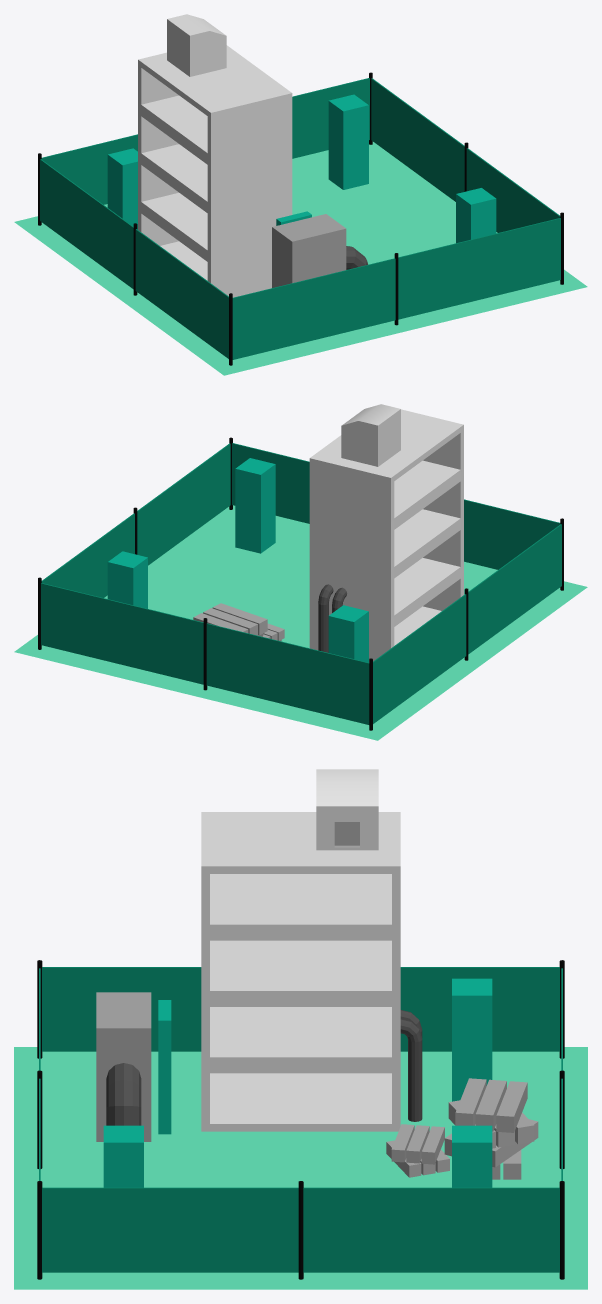
Rendered from 55_green.fbx.
3 renders of one model, top to bottom at view 1: azimuth 30°, elevation 25°; view 2: azimuth 150°, elevation 25°; view 3: azimuth 270°, elevation 25°, orthographic. The views are drawn at different scales.
Parts seen in each view (by area): view 1: pCube229, five_five4, pCube228, pCube227, pCube222, pCube217, pCube225, pCube233, pCube239, pCube226, pCube241, pCube224 (+3 smaller); view 2: pCube229, five_five4, pCube223, pCube224, pCube217, pCube222, pCube226, pCube228, pCube238, pCube225, pCube241, pCube227 (+5 smaller); view 3: pCube229, five_five4, pCube226, pCube225, pCube222, pCube217, pCube233, pCube241, pCube240, pCube239, pCube238, pCylinder44 (+5 smaller).
Boxes of the visible parts, x1=… form: pCube229: x1=138, y1=45, x2=292, y2=297; five_five4: x1=14, y1=141, x2=587, y2=375; pCube228: x1=232, y1=258, x2=395, y2=359; pCube227: x1=398, y1=218, x2=560, y2=319; pCube222: x1=40, y1=159, x2=133, y2=289; pCube217: x1=135, y1=229, x2=228, y2=358; pCube225: x1=371, y1=78, x2=464, y2=201; pCube233: x1=272, y1=214, x2=346, y2=287; pCube239: x1=328, y1=94, x2=368, y2=189; pCube226: x1=466, y1=148, x2=560, y2=232; pCube241: x1=167, y1=14, x2=226, y2=76; pCube224: x1=292, y1=78, x2=369, y2=158; pCube229: x1=309, y1=409, x2=463, y2=662; five_five4: x1=14, y1=505, x2=587, y2=740; pCube223: x1=206, y1=623, x2=369, y2=724; pCube224: x1=41, y1=583, x2=203, y2=684; pCube217: x1=468, y1=524, x2=561, y2=654; pCube222: x1=373, y1=594, x2=466, y2=723; pCube226: x1=137, y1=443, x2=230, y2=565; pCube228: x1=464, y1=499, x2=560, y2=569; pCube238: x1=235, y1=458, x2=275, y2=553; pCube225: x1=41, y1=513, x2=134, y2=597; pCube241: x1=341, y1=404, x2=400, y2=466; pCube227: x1=232, y1=443, x2=309, y2=523; pCube229: x1=201, y1=812, x2=400, y2=1131; five_five4: x1=14, y1=1047, x2=587, y2=1289; pCube226: x1=42, y1=1187, x2=298, y2=1272; pCube225: x1=303, y1=1187, x2=559, y2=1272; pCube222: x1=400, y1=967, x2=559, y2=1051; pCube217: x1=42, y1=967, x2=201, y2=1051; pCube233: x1=96, y1=992, x2=151, y2=1141; pCube241: x1=316, y1=769, x2=378, y2=850; pCube240: x1=452, y1=978, x2=492, y2=1101; pCube239: x1=452, y1=1125, x2=492, y2=1187; pCube238: x1=103, y1=1125, x2=143, y2=1187; pCylinder44: x1=106, y1=1063, x2=141, y2=1125.
Bounding box in the file's own units: 5 × 3.16 × 5.
